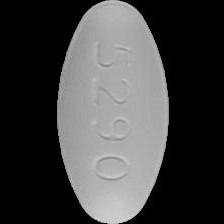0093-5290: (0, 0, 224, 224)
